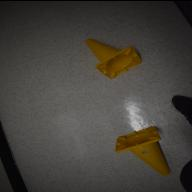cone: (114, 124, 171, 174), (85, 38, 142, 78)
